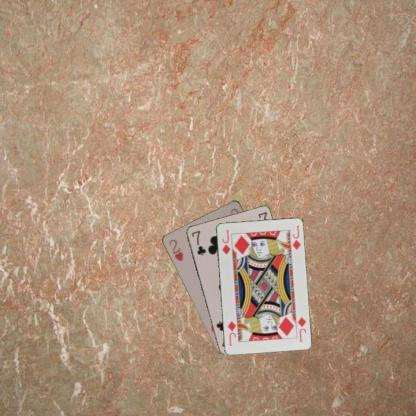2h: (166, 236, 184, 263)
7c: (189, 228, 207, 257)
Jd: (219, 226, 231, 256), (295, 314, 306, 342)
